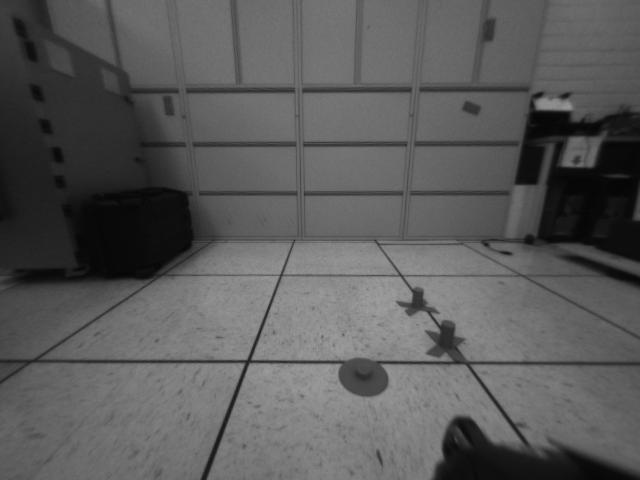X: (424, 320, 465, 361), (397, 287, 439, 318)
